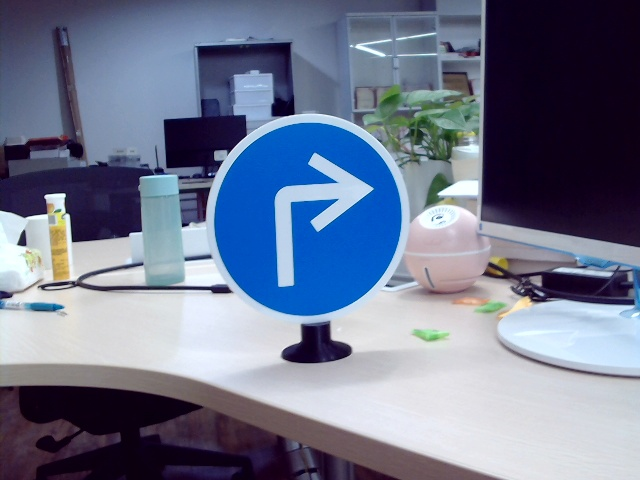turn_right: (264, 154, 371, 286)
